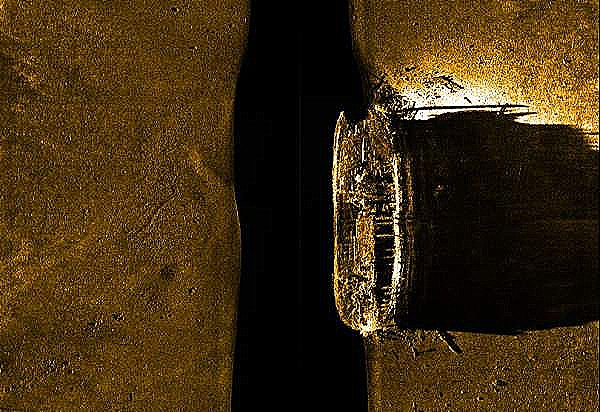ship: (331, 103, 416, 342)
